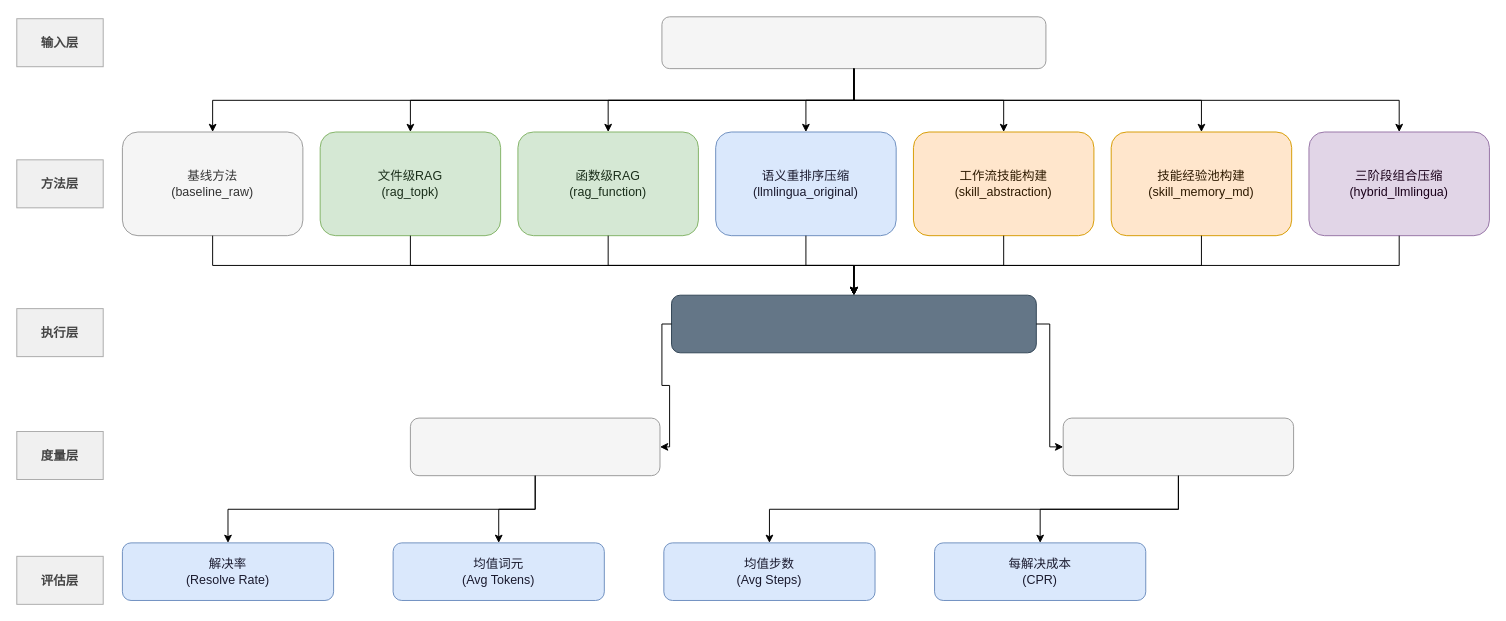
This 1506x621 diagram has some shape labels left out. The shapes that lost their labels are listed below. From the top down, each one's centre as x and y in pixels, then its label:
At (x=853, y=42): "SWE-bench 任务实例 (issue + 代码仓库快照)".
At (x=853, y=323): "mini-swe-agent (ACI 执行框架)".
At (x=534, y=446): "本地词元计量网关 (token proxy)".
At (x=1178, y=446): "trajectory.json (逐步词元记录)".
